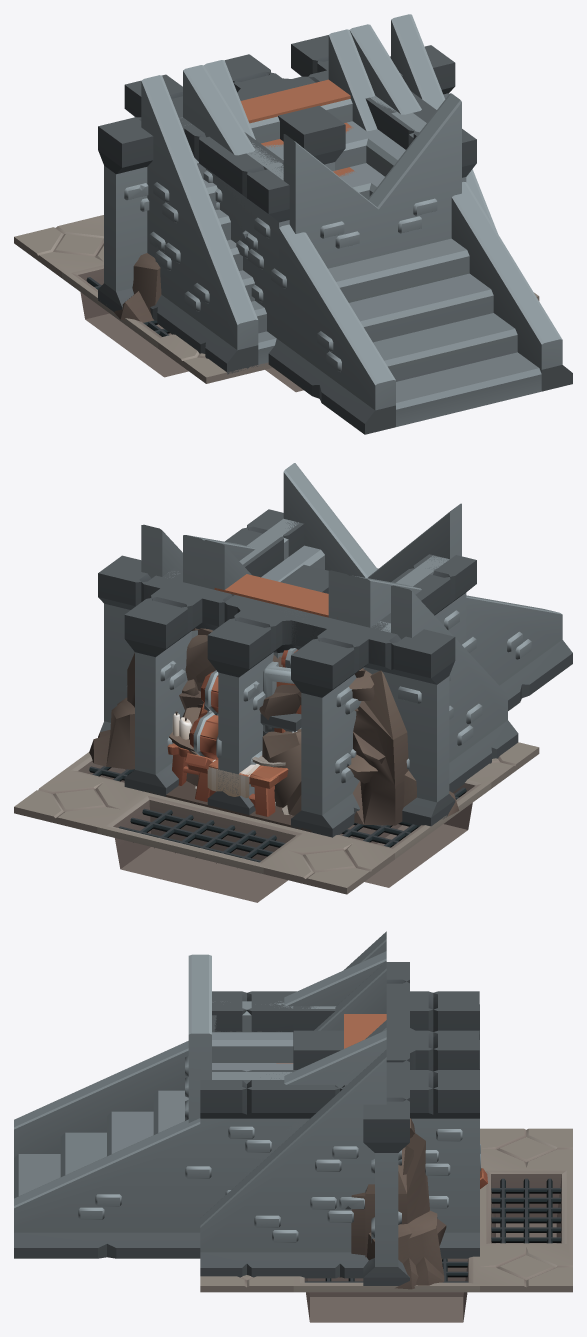
The model's file is dungeon.glb.
3 renders of one model, top to bottom at view 1: azimuth 30°, elevation 25°; view 2: azimuth 150°, elevation 25°; view 3: azimuth 270°, elevation 25°, orthographic. The views are drawn at different scales.
Visible parts, largest first — view 1: stairs_long, stairs_wide, stairs_wall_right, wall_doorway_Tsplit, floor_tile_extralarge_grates, stairs_walled, stairs_wall_left, stairs_long_modular_center, stairs_narrow, stairs_long_modular_right, wall_doorway_sides, stairs_wood (+7 smaller); view 2: floor_tile_extralarge_grates, wall_doorway_sides, wall_doorway_Tsplit, rubble_large, stairs_wide, wall_crossing, stairs_long, stairs_wall_right, stairs_walled, stairs_wall_left, rubble_half, stairs_narrow (+11 smaller); view 3: stairs_long, floor_tile_extralarge_grates, stairs_wide, wall_doorway_sides, wall_doorway_Tsplit, stairs_walled, stairs_wall_left, rubble_half, stairs_long_modular_center, wall_crossing, stairs_wall_right, stairs_narrow (+7 smaller).
Boxes of the visible parts, x1,y1,x2,y2 form: stairs_long: (183,24,572,434); stairs_wide: (141,14,497,374); stairs_wall_right: (238,70,461,263); wall_doorway_Tsplit: (98,45,455,311); floor_tile_extralarge_grates: (14,215,539,392); stairs_walled: (179,91,476,343); stairs_wall_left: (244,70,414,268); stairs_long_modular_center: (257,102,509,413); stairs_narrow: (204,29,377,139); stairs_long_modular_right: (341,100,541,396); wall_doorway_sides: (124,35,396,202); stairs_wood: (240,79,354,176); floor_tile_extralarge_grates: (14,742,539,902); wall_doorway_sides: (124,557,428,837); wall_doorway_Tsplit: (98,555,455,826); rubble_large: (98,655,459,825); stairs_wide: (141,524,518,792); wall_crossing: (183,565,322,814); stairs_long: (188,535,572,710); stairs_wall_right: (183,463,377,649); stairs_walled: (173,509,476,644); stairs_wall_left: (181,503,461,649); rubble_half: (89,628,212,786); stairs_narrow: (203,540,349,622); stairs_long: (14,951,386,1258); floor_tile_extralarge_grates: (200,1128,572,1322); stairs_wide: (200,931,386,1278); wall_doorway_sides: (293,991,479,1258); wall_doorway_Tsplit: (293,962,409,1285); stairs_walled: (200,991,346,1194); stairs_wall_left: (185,954,409,1097); rubble_half: (365,1118,446,1285); stairs_long_modular_center: (14,1105,184,1197); wall_crossing: (324,1029,479,1071); stairs_wall_right: (185,1001,409,1122); stairs_narrow: (314,961,386,1038).
Size of the model in its own units: 8.13 by 6.3 by 12.
1 material, 1 textured.
